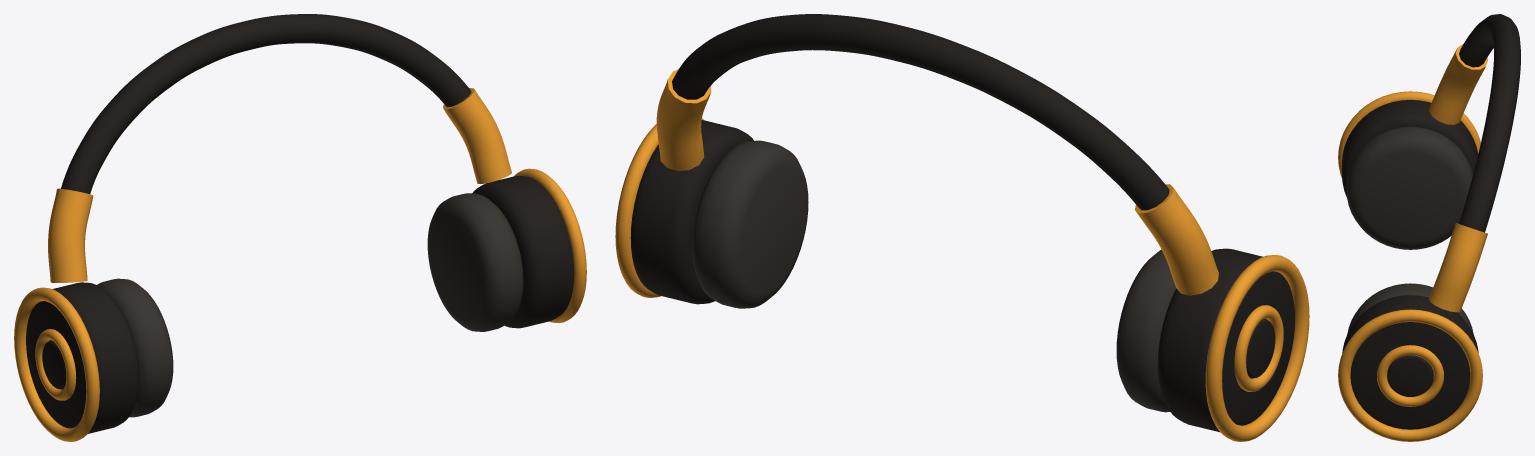
File: audifono.glb
3 views of the same model, side by side, from view 1: azimuth 30°, elevation 25°; view 2: azimuth 150°, elevation 25°; view 3: azimuth 270°, elevation 25° (orthographic). The views are drawn at different scales.
Visible parts, largest first — view 1: audifono; view 2: audifono; view 3: audifono.
Boxes of the visible parts, x1,y1,x2,y2 form: audifono: (14,14,586,441); audifono: (615,14,1309,441); audifono: (1338,14,1520,441).
Bounding box in the file's own units: 0.926 × 0.5606 × 0.3206.
